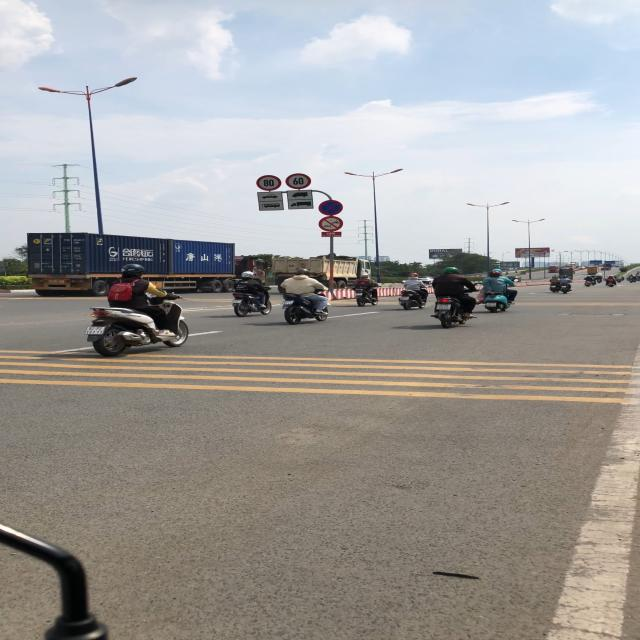Bien bao cam dung xe va do xe: (318, 198, 346, 216)
Bien bao toc do toi da cho phep: (282, 172, 312, 190), (253, 174, 282, 192)
